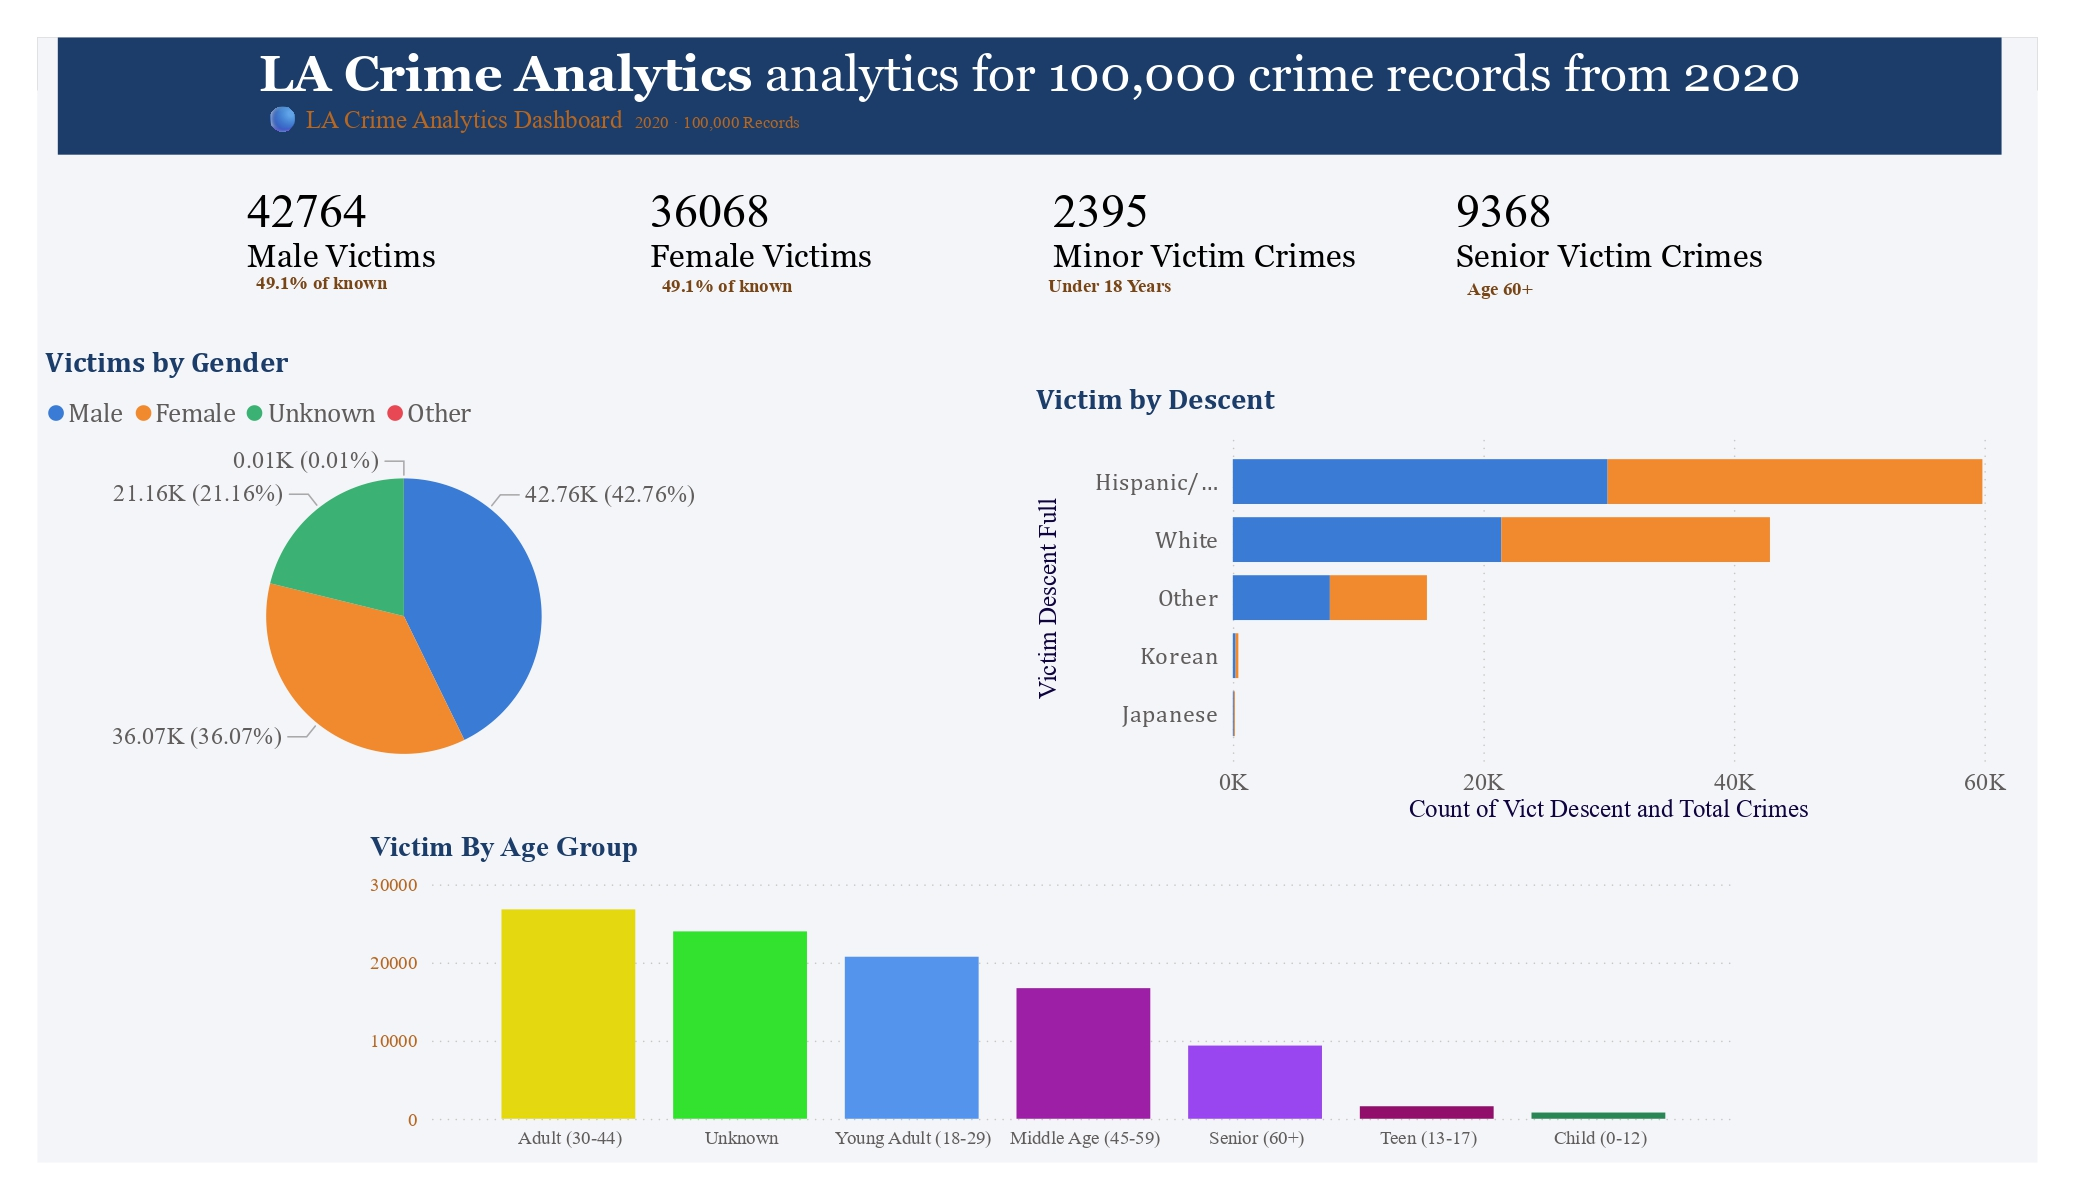

The dashboard page shown, as its layout file describes it:
{"tool":"powerbi","page":{"name":"Victim Analysis","canvas":[1280,720],"ordinal":2},"visuals":[{"type":"multiRowCard","title":"Male Victims","fields":{"Values":["VICTIM_DEMOGRAPHICS_MEASURES.Male Victims","VICTIM_DEMOGRAPHICS_MEASURES.Female Victims","VICTIM_DEMOGRAPHICS_MEASURES.Minor Victim Crimes","VICTIM_DEMOGRAPHICS_MEASURES.Senior Victim Crimes"]},"box":[129.4,87.5,1041.7,86.6],"z":0},{"type":"textbox","box":[129.4,141,105.9,33.8],"z":1000,"group":"g1"},{"type":"pieChart","title":" Victims by  Gender ","fields":{"Category":["Crime Data.Victim Gender Full"],"Y":["CountNonNull(Crime Data.Victim Gender Full)"]},"box":[0,196.5,468.8,293.7],"z":1000},{"type":"textbox","box":[361.2,142.7,161.4,34.3],"z":2000,"group":"g1"},{"type":"barChart","title":"Victim by Descent ","fields":{"Y":["CountNonNull(Crime Data.Vict Descent)","CORE_KPI_MEASURES.Total Crimes"],"Category":["Crime Data.Victim Descent Full"]},"box":[634.2,219.8,631.2,286.9],"z":2000},{"type":"textbox","box":[642.2,142.7,170.1,32],"z":3000,"group":"g1"},{"type":"columnChart","title":"Victim By Age Group","fields":{"Category":["Crime Data.Age Group"],"Y":["CORE_KPI_MEASURES.Total Crimes"]},"box":[208.1,506.7,885.1,213],"z":3000},{"type":"group","id":"g1","title":"Group 1","box":[129.4,141,953.2,36],"z":4000},{"type":"textbox","box":[910.5,145,172.1,30.9],"z":4000,"group":"g1"},{"type":"textbox","box":[12.6,0,1244,74.9],"z":5000}]}

Visuals, with their boxes on the page's 1280x720 design canvas (x1, y1, x2, y2). These are canvas units, not pixel positions in the 2075x1200 screenshot, which may show the page scaled, cropped or inside an application window:
"Male Victims" multiRowCard: box=[129, 88, 1171, 174]
textbox: box=[129, 141, 235, 175]
" Victims by  Gender " pieChart: box=[0, 196, 469, 490]
textbox: box=[361, 143, 523, 177]
"Victim by Descent " barChart: box=[634, 220, 1265, 507]
textbox: box=[642, 143, 812, 175]
"Victim By Age Group" columnChart: box=[208, 507, 1093, 720]
"Group 1" group: box=[129, 141, 1083, 177]
textbox: box=[910, 145, 1083, 176]
textbox: box=[13, 0, 1257, 75]
